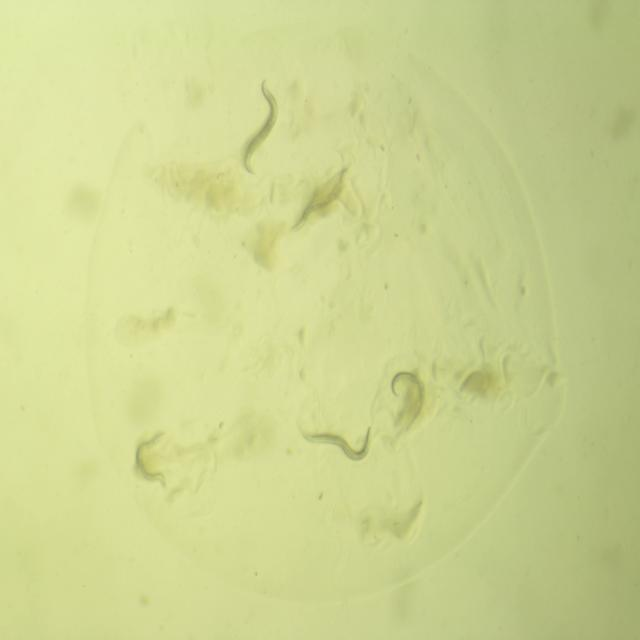worm: (229, 68, 288, 186), (284, 153, 356, 244), (292, 408, 382, 473), (120, 416, 180, 501), (379, 351, 433, 444)
